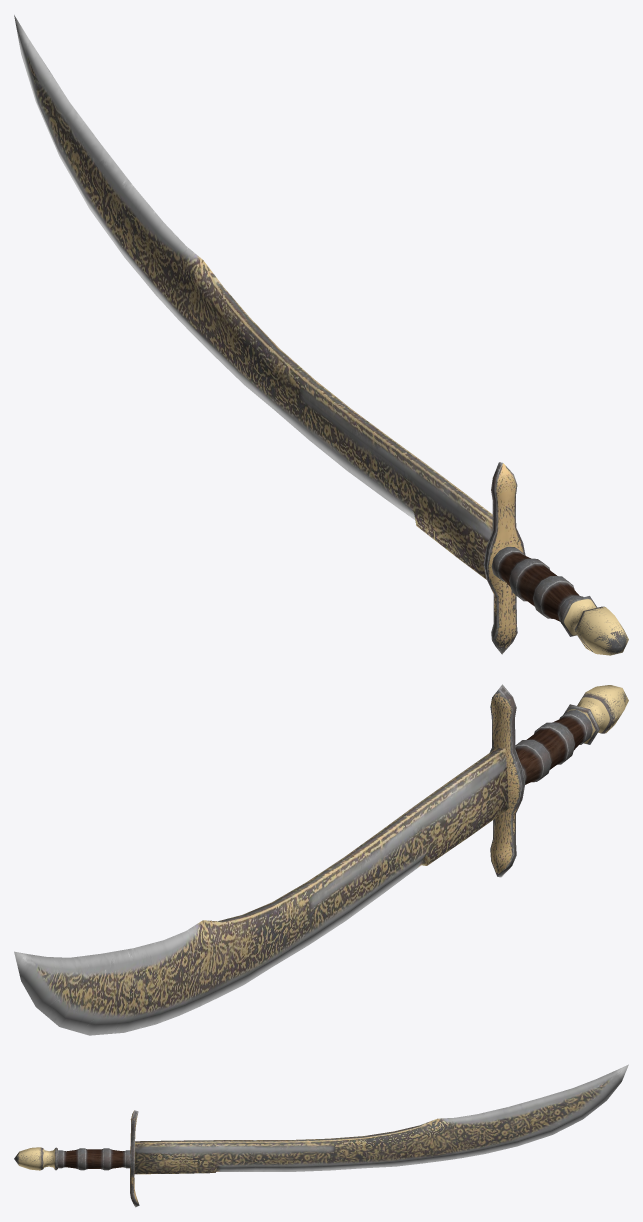
Rendered from persian-sword-compressed.glb.
3 views of the same model, one above another, from view 1: azimuth 30°, elevation 25°; view 2: azimuth 150°, elevation 25°; view 3: azimuth 270°, elevation 25° (orthographic). The views are drawn at different scales.
Visible parts, largest first — view 1: defaultMaterial (×4); view 2: defaultMaterial (×4); view 3: defaultMaterial (×4).
Part boxes in pixels (x1,y1,x2,y2): defaultMaterial (×4): [14, 15, 628, 655]; defaultMaterial (×4): [14, 684, 628, 1035]; defaultMaterial (×4): [14, 1064, 628, 1207].
Size of the model in its own units: 0.0766 by 0.5135 by 2.
4 materials, 4 textured.
